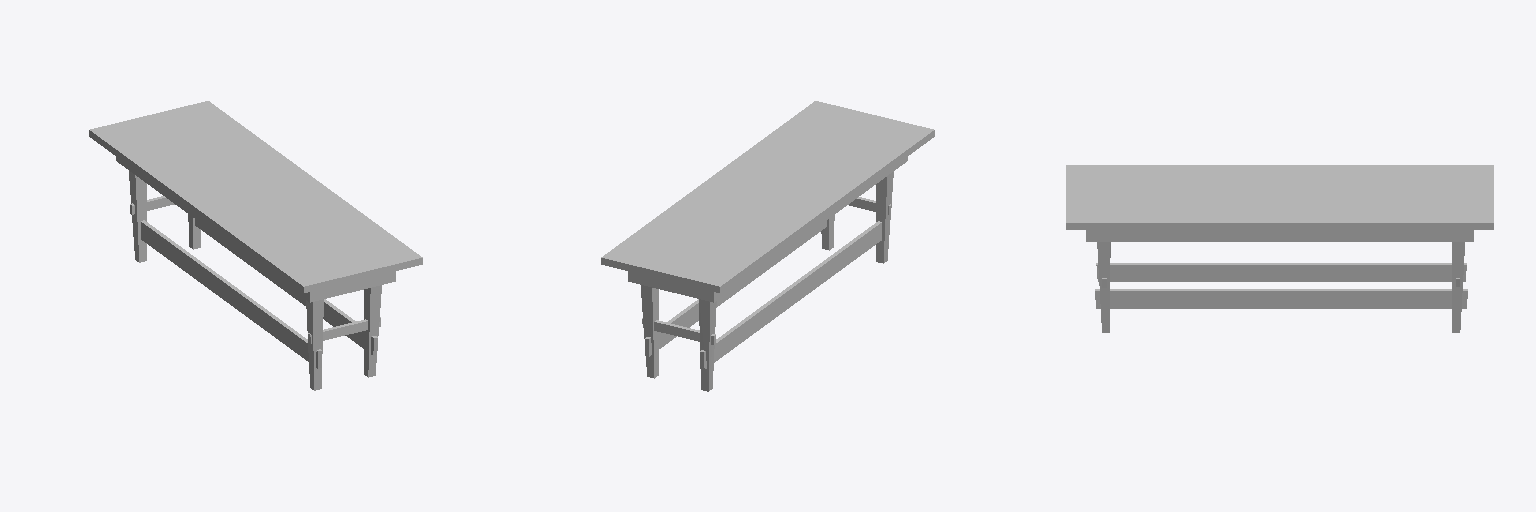
File: potato.obj
The picture shows the model from 3 angles: view 1: azimuth 30°, elevation 25°; view 2: azimuth 150°, elevation 25°; view 3: azimuth 270°, elevation 25°; orthographic projection.
Visible parts, largest first — view 1: table_mt_old-dirty; view 2: table_mt_old-dirty; view 3: table_mt_old-dirty.
Part boxes in pixels (left/top/right/bottom): table_mt_old-dirty: left=89, top=101, right=422, bottom=390; table_mt_old-dirty: left=601, top=101, right=934, bottom=391; table_mt_old-dirty: left=1066, top=165, right=1493, bottom=332.
Size of the model in its own units: 0.8011 by 0.8001 by 2.5.